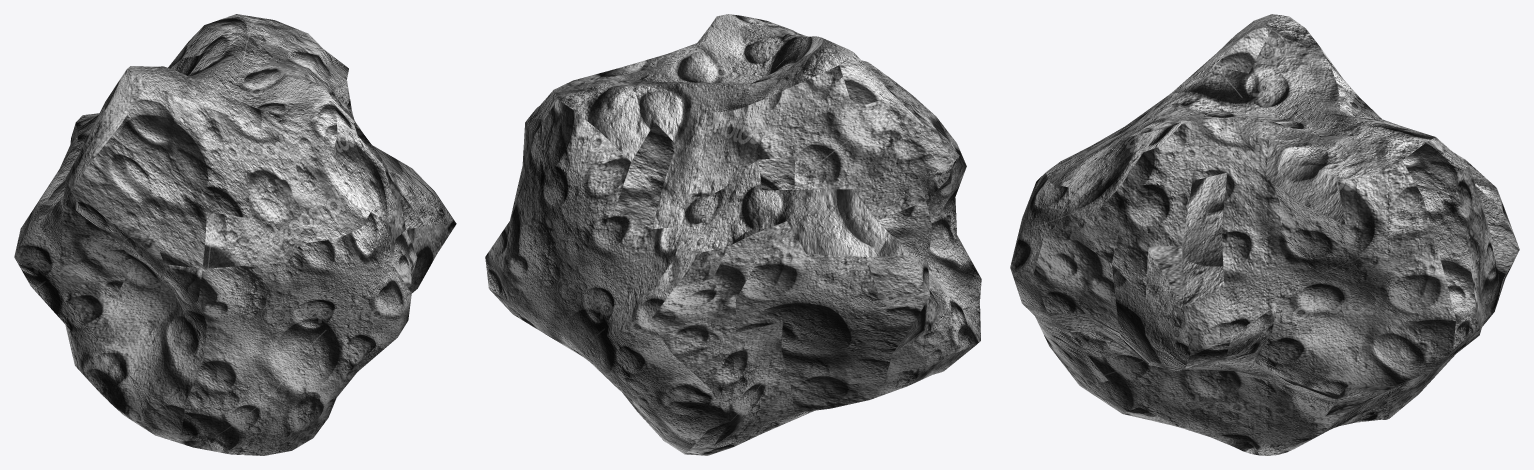
The model's file is asteroide_8.FBX.
3 renders of one model, left to right at view 1: azimuth 30°, elevation 25°; view 2: azimuth 150°, elevation 25°; view 3: azimuth 270°, elevation 25°, orthographic. The views are drawn at different scales.
Parts seen in each view (by area): view 1: asteroide_1; view 2: asteroide_1; view 3: asteroide_1.
Boxes of the visible parts, x1,y1,x2,y2 form: asteroide_1: (14,14,456,455); asteroide_1: (485,14,981,455); asteroide_1: (1010,14,1519,455).
Size of the model in its own units: 320 by 297 by 361.
1 material, 1 textured.
